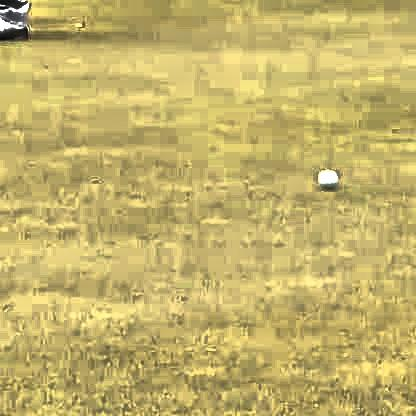golfball: (314, 166, 336, 188)
